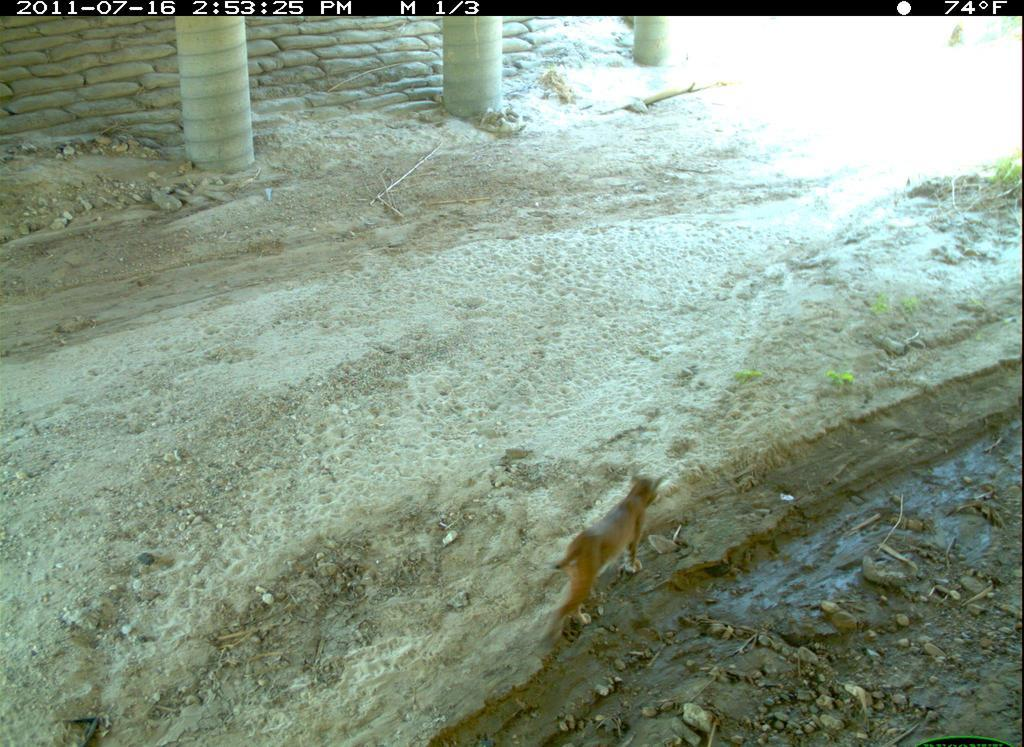bobcat: (542, 452, 680, 647)
